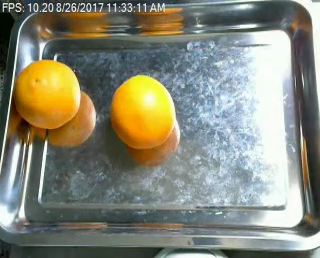Orange: (110, 74, 175, 149), (13, 59, 81, 127)
